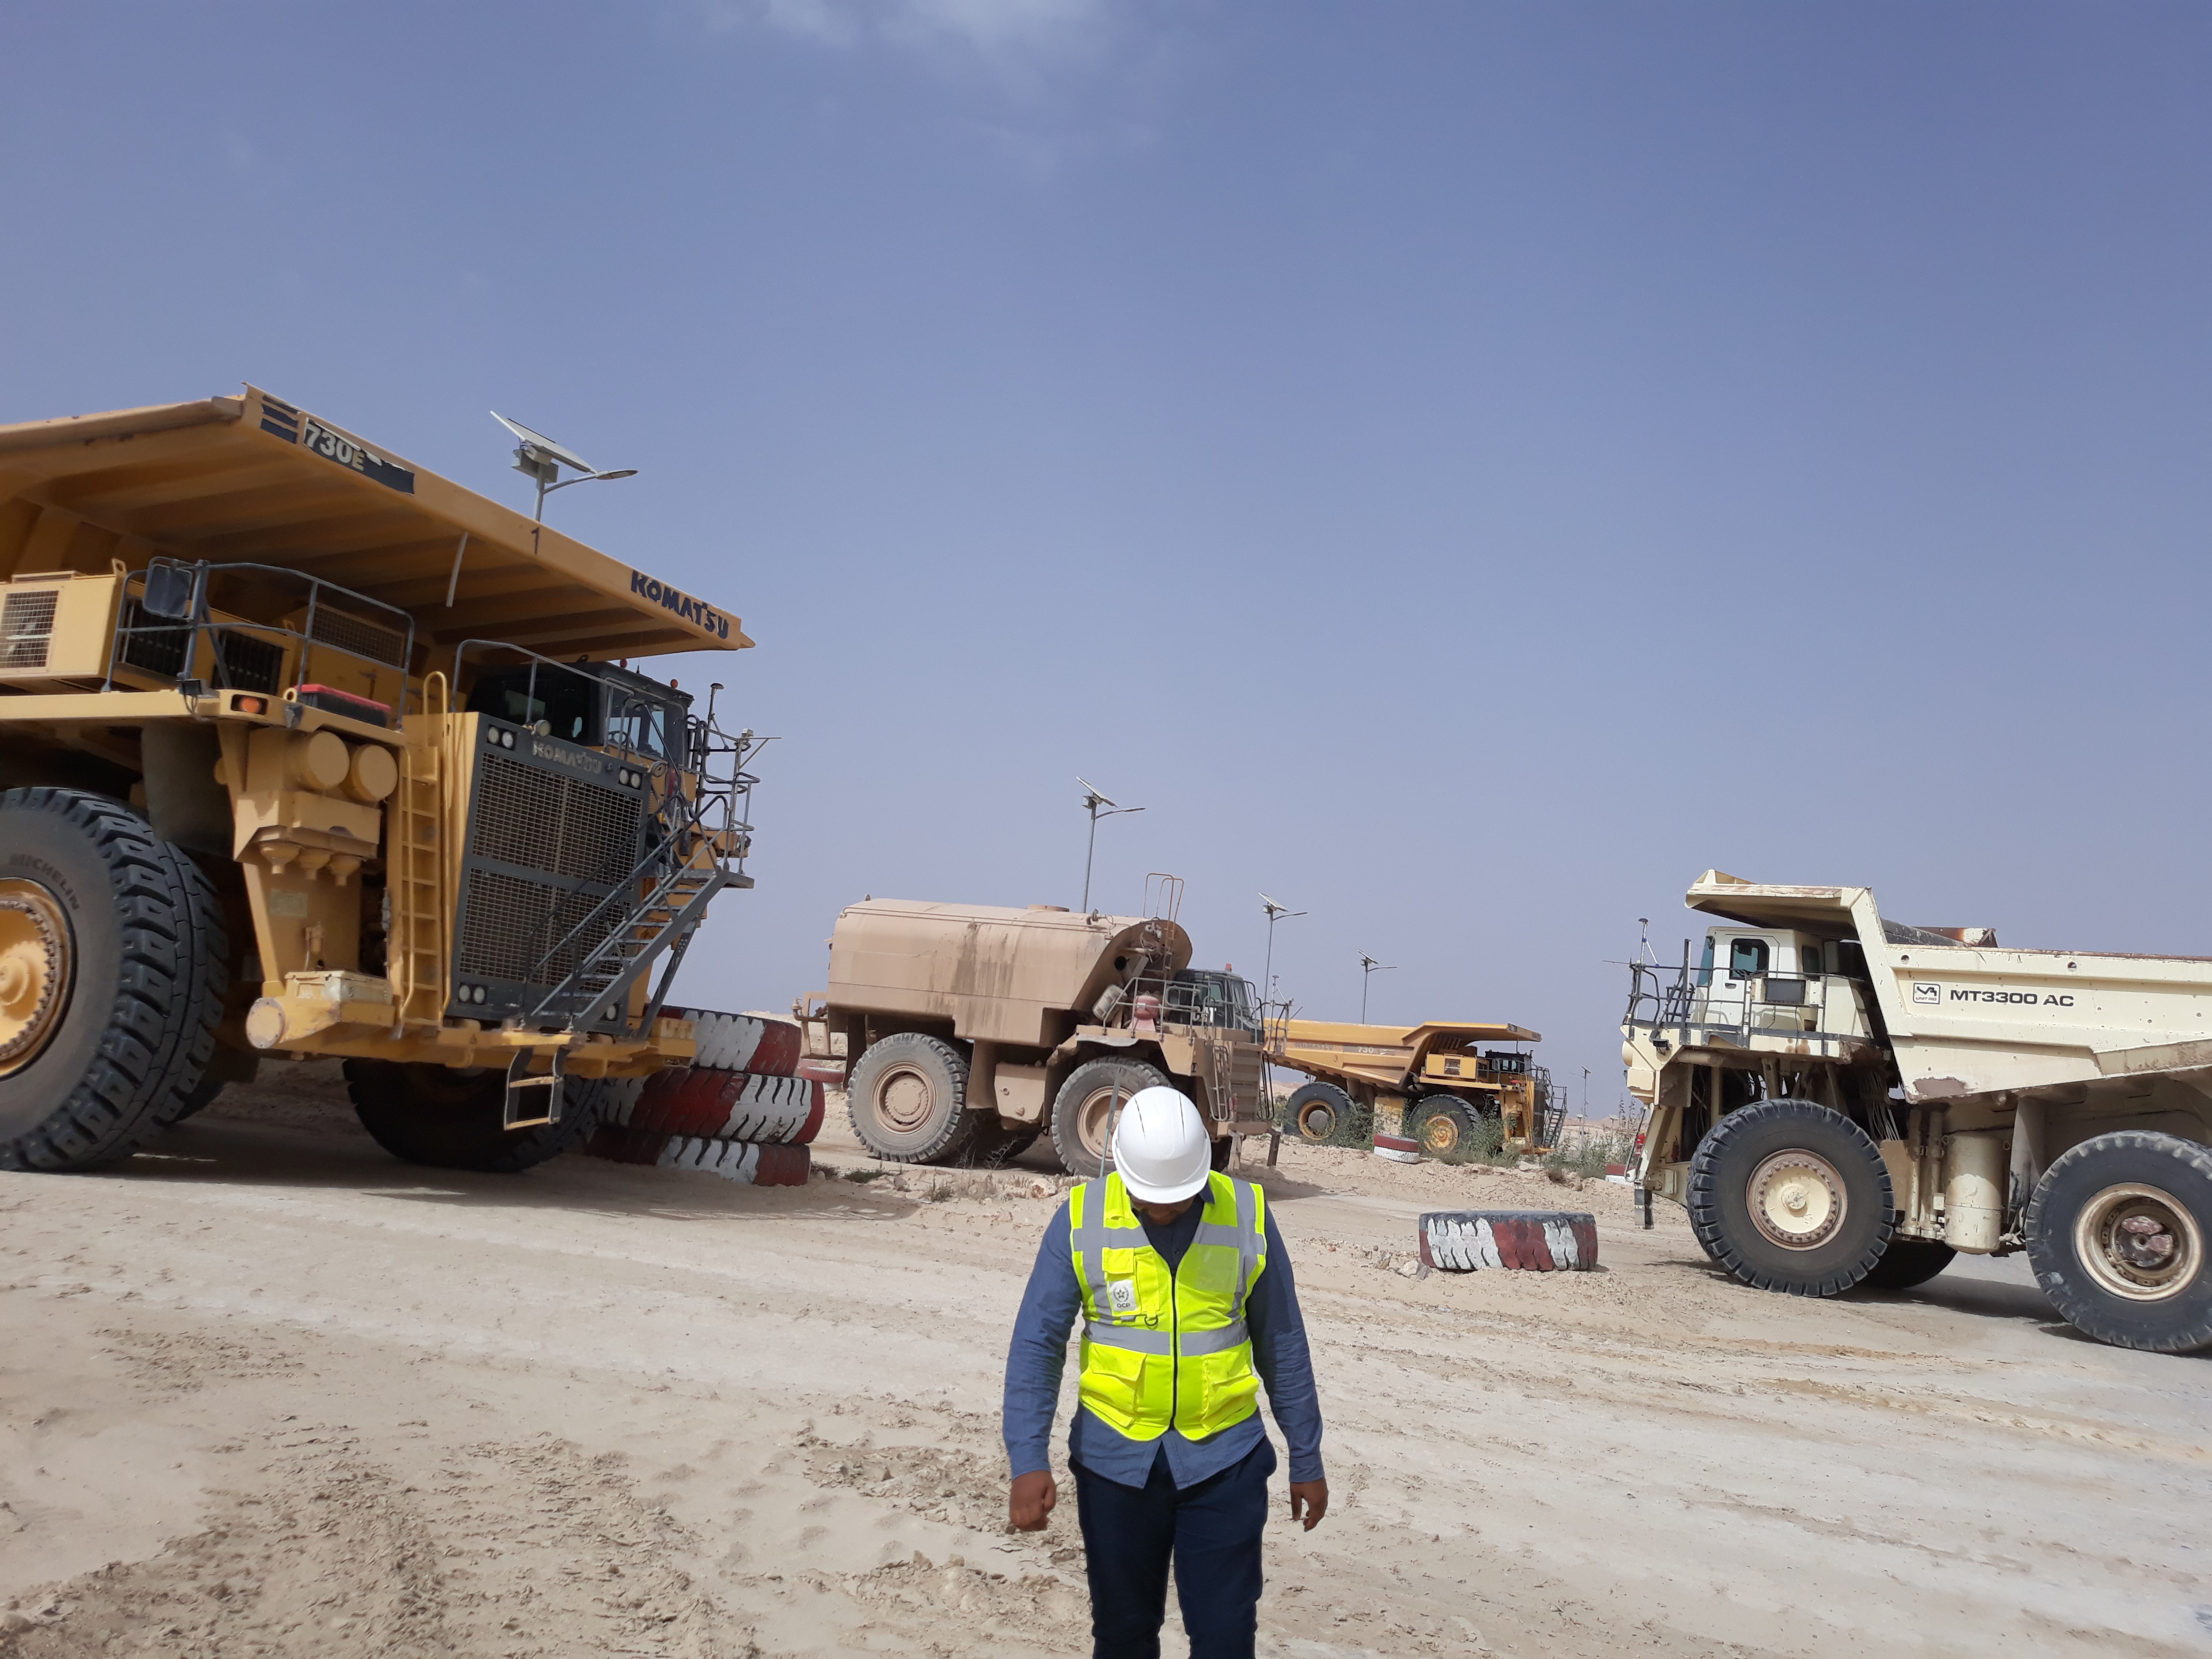person: (1, 369, 829, 1190), (1616, 842, 2212, 1366), (983, 1072, 1336, 1659), (1216, 985, 1585, 1191)
